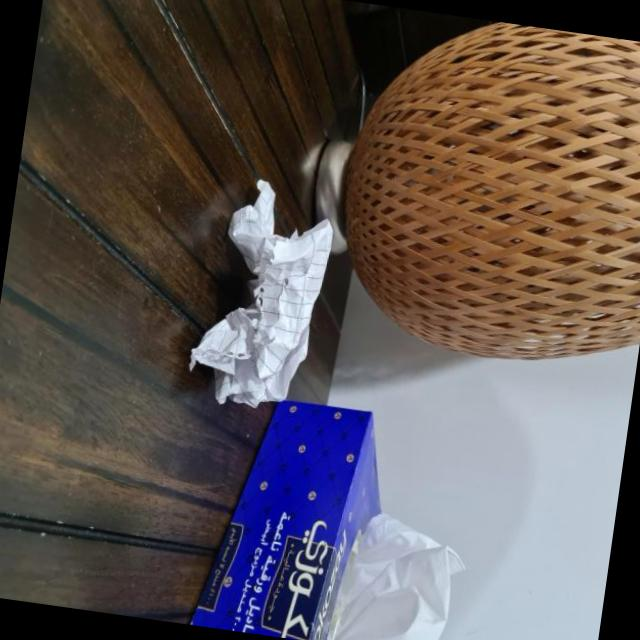cardboard paper: (192, 180, 333, 405), (328, 513, 465, 640)
